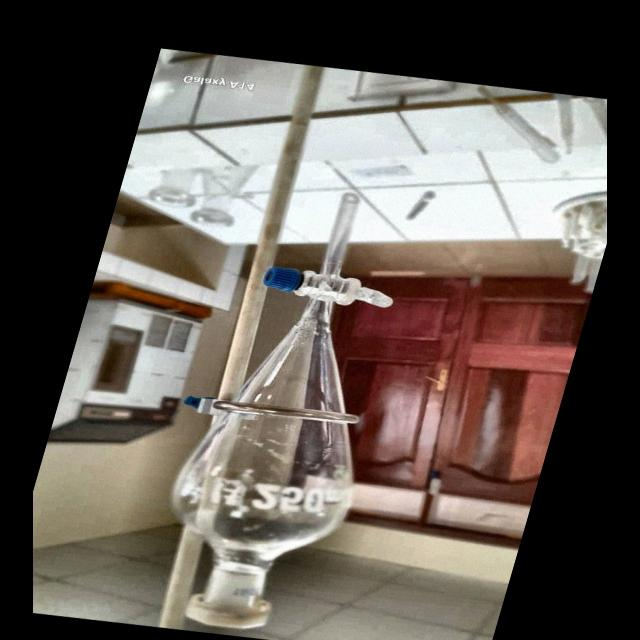Separating Funnel: (134, 180, 438, 640)
